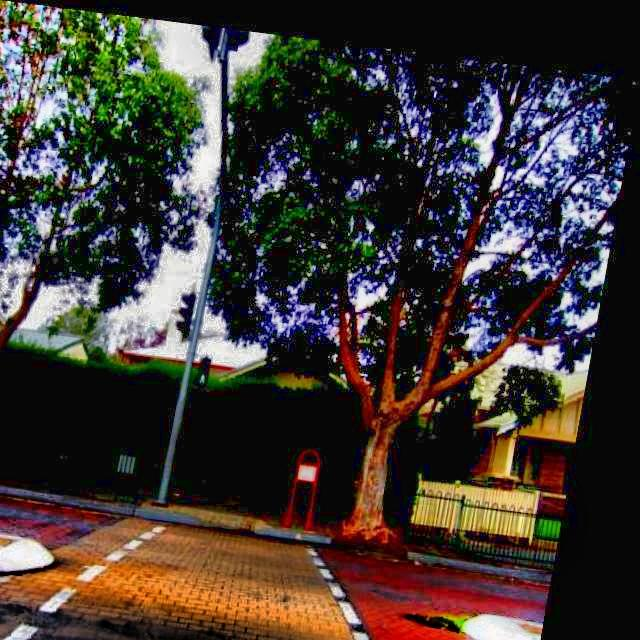semaforo pedestre: (202, 344, 234, 390)
